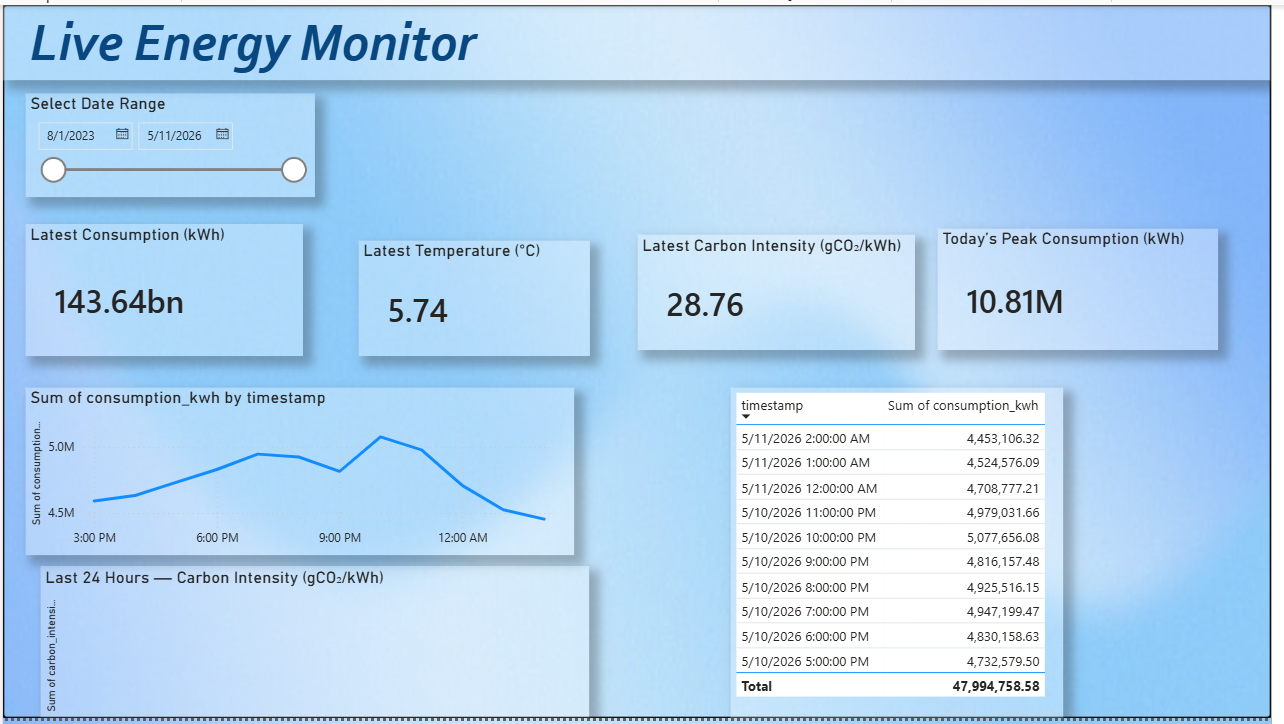

This screenshot's page, from the dashboard's own definition file:
{"tool":"powerbi","page":{"name":"Live Energy Monitor","canvas":[1280,720],"ordinal":4},"visuals":[{"type":"group","id":"g1","title":"Group 1","box":[0,0,207.7,718.5],"z":0},{"type":"shape","box":[0,0,208.3,718.3],"z":0,"group":"g1"},{"type":"shape","box":[0,1.5,208.8,719.1],"z":0,"group":"g2"},{"type":"textbox","box":[221.5,0,1058.5,90.8],"z":1000},{"type":"pageNavigator","box":[0,191.7,208.3,411.7],"z":1000,"group":"g1"},{"type":"pageNavigator","box":[0,193.4,208.8,412.1],"z":1000,"group":"g2"},{"type":"cardVisual","fields":{"Data":["DateTable.System Freshness Status"]},"box":[221.5,90.8,761.5,73.8],"z":2000},{"type":"cardVisual","title":"💡Latest Consumption (kWh)","fields":{"Data":["Energy_Consumption.Latest Consumption (Real-time)"]},"box":[221.5,192.3,213.8,113.8],"z":3000},{"type":"cardVisual","title":"🌡️Latest Temperature (°C)","fields":{"Data":["Temperature_Tampere.Latest Temperature"]},"box":[452.3,192.3,209.2,113.8],"z":4000},{"type":"cardVisual","title":"🍃Latest Carbon Intensity (gCO₂/kWh)","fields":{"Data":["fact_carbon_intensity.Latest Carbon Intensity"]},"box":[681.5,190.8,278.5,115.4],"z":5000},{"type":"cardVisual","title":"🔋Today’s Peak Consumption (kWh)","fields":{"Data":["Energy_Consumption.Today Peak Consumption (kWh)"]},"box":[983.1,190.8,284.6,115.4],"z":6000},{"type":"lineChart","title":"Electricity Consumption Trend (Past 24H)","fields":{"Category":["Energy_Consumption.timestamp"],"Y":["Sum(Energy_Consumption.consumption_kwh)"]},"box":[221.5,326.2,661.5,192.3],"z":7000},{"type":"lineChart","title":"Grid Carbon Intensity Trend (Past 24H)","fields":{"Y":["DateTable.Carbon Intensity Trend Line"],"Category":["Energy_Consumption.timestamp"]},"box":[221.5,529.2,661.5,189.2],"z":8000},{"type":"tableEx","title":"Last 10 Records — Energy Consumption","fields":{"Values":["Energy_Consumption.timestamp","Sum(Energy_Consumption.consumption_kwh)"]},"box":[904.6,326.2,363.1,392.3],"z":9000},{"type":"group","id":"g2","title":"Group 1","box":[0,1.5,208.8,719.1],"z":10000},{"type":"textbox","box":[0,633.8,219.1,85.3],"z":11000}]}

Visuals, with their boxes in screenshot pixels (x1, y1, x2, y2), scaled from the page's 1280x720 canvas onto the 1284x724 screenshot:
"Group 1" group: (0,0,208,722)
shape: (0,0,209,722)
shape: (0,2,209,723)
textbox: (222,0,1283,91)
pageNavigator: (0,193,209,607)
pageNavigator: (0,194,209,609)
cardVisual - DateTable.System Freshness Status: (222,91,986,166)
"💡Latest Consumption (kWh)" cardVisual: (222,193,437,308)
"🌡️Latest Temperature (°C)" cardVisual: (454,193,664,308)
"🍃Latest Carbon Intensity (gCO₂/kWh)" cardVisual: (684,192,963,308)
"🔋Today’s Peak Consumption (kWh)" cardVisual: (986,192,1272,308)
"Electricity Consumption Trend (Past 24H)" lineChart: (222,328,886,521)
"Grid Carbon Intensity Trend (Past 24H)" lineChart: (222,532,886,722)
"Last 10 Records — Energy Consumption" tableEx: (907,328,1272,722)
"Group 1" group: (0,2,209,723)
textbox: (0,637,220,723)
